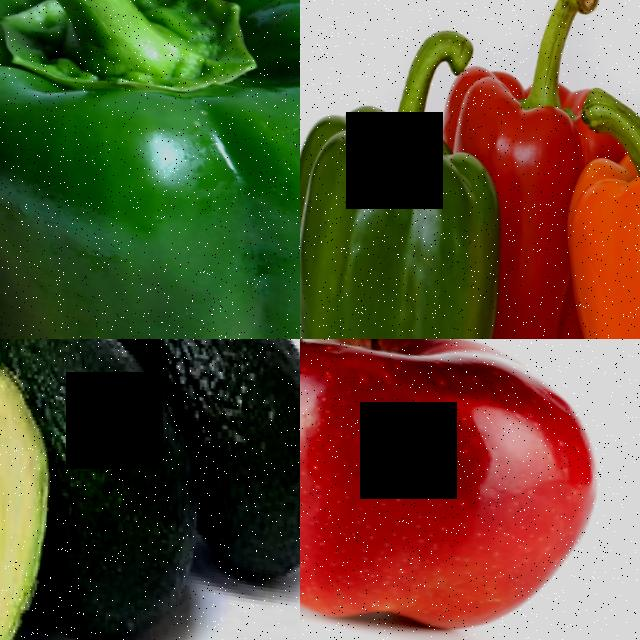apple: (300, 339, 633, 640)
avocado: (0, 339, 234, 640), (136, 339, 300, 598), (0, 339, 85, 640)
bell pepper: (0, 0, 300, 339), (300, 73, 528, 339), (415, 0, 640, 166), (508, 97, 640, 339)
